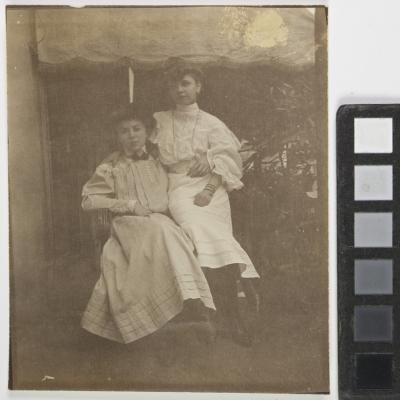photos_negatives: (6, 0, 328, 393)
